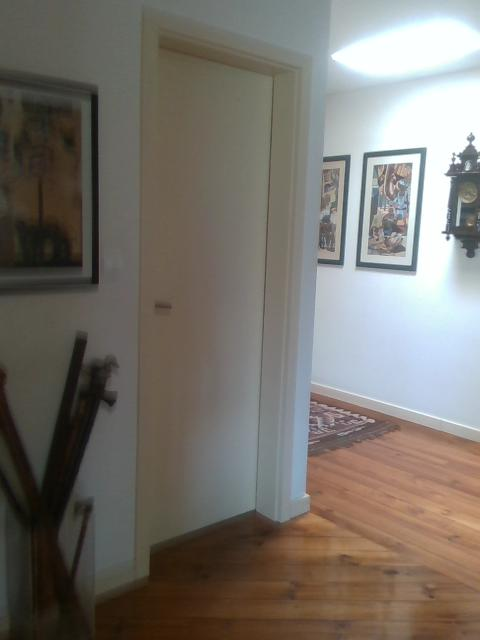door: (152, 44, 274, 545)
